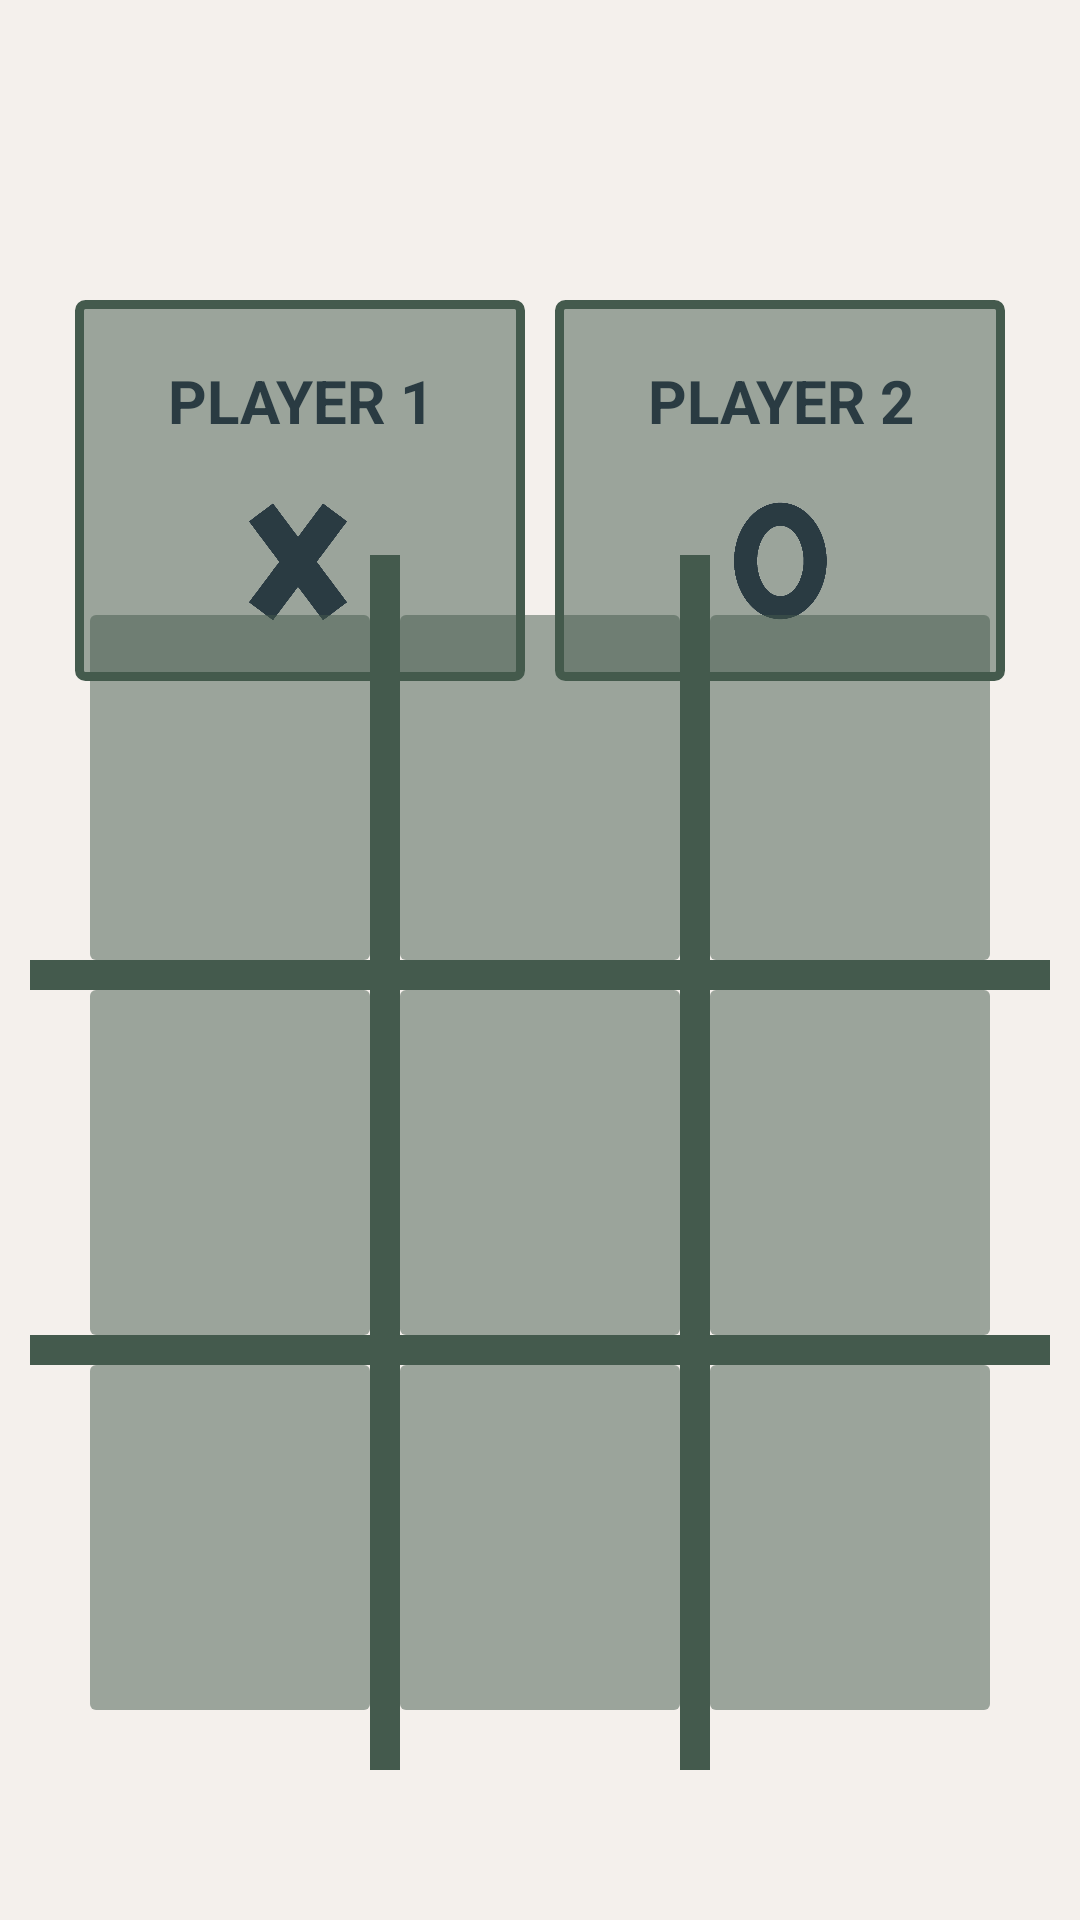

Named icons in this screenshot (1080w x 1920h) and their bounding boxes, {"left": x1, "top": y1, "right": x2, "bottom": y2}:
cross: {"left": 240, "top": 504, "right": 360, "bottom": 621}
zero: {"left": 720, "top": 503, "right": 840, "bottom": 621}
